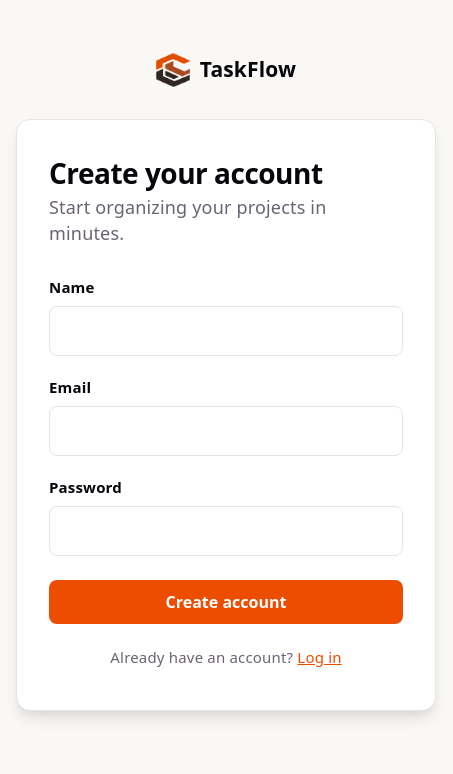
RegisterPage › shows an error when the email is already registered
Type "Ada Lovelace" into the field labelled "Name" at (226, 331), box [49,306,403,356]
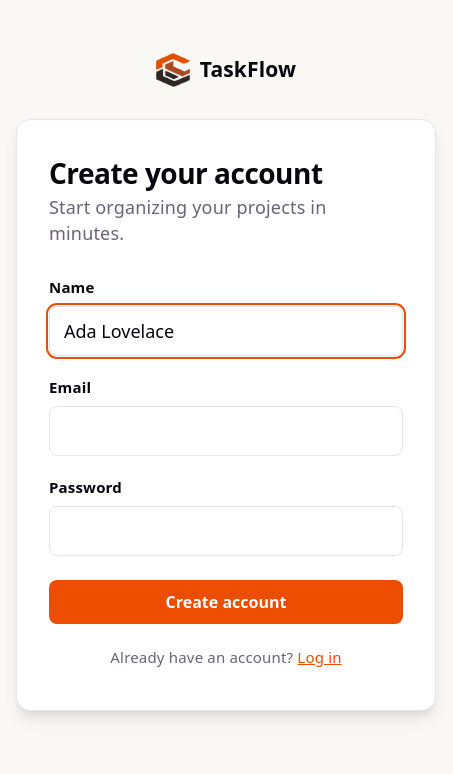
Type "ada@example.com" into the field labelled "Email" at (226, 431), box [49,406,403,456]
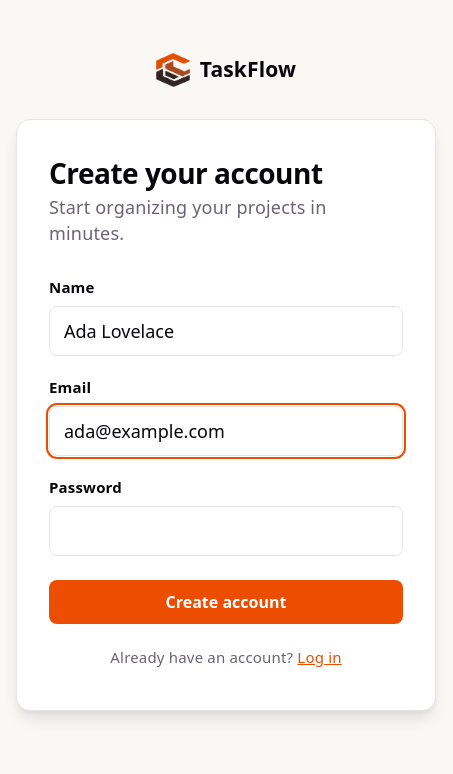
Type "secret-password" into the password field labelled "Password" at (226, 531), box [49,506,403,556]
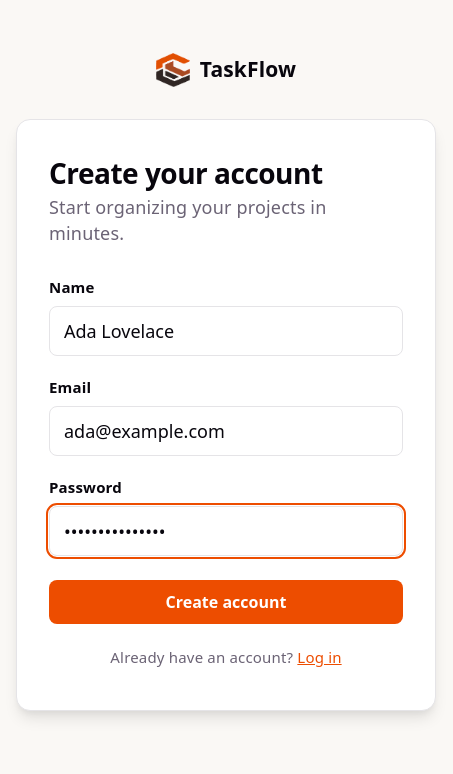
Click the button "Create account" at (226, 602), box [49,580,403,624]
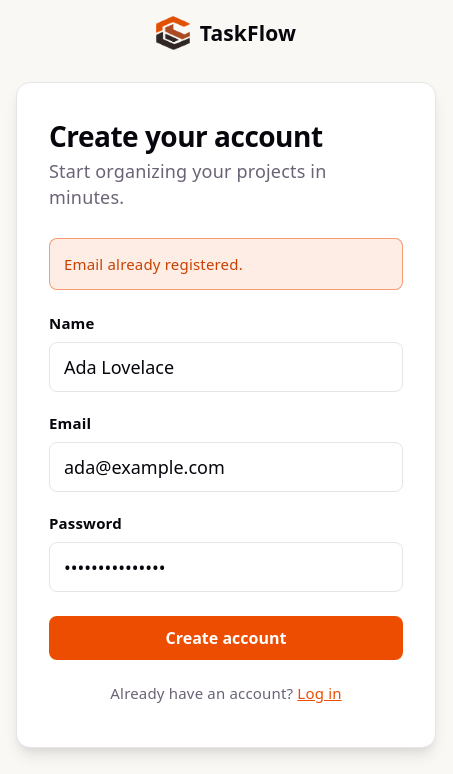
Check: the message shows "Email already registered", box [64,254,243,274]
